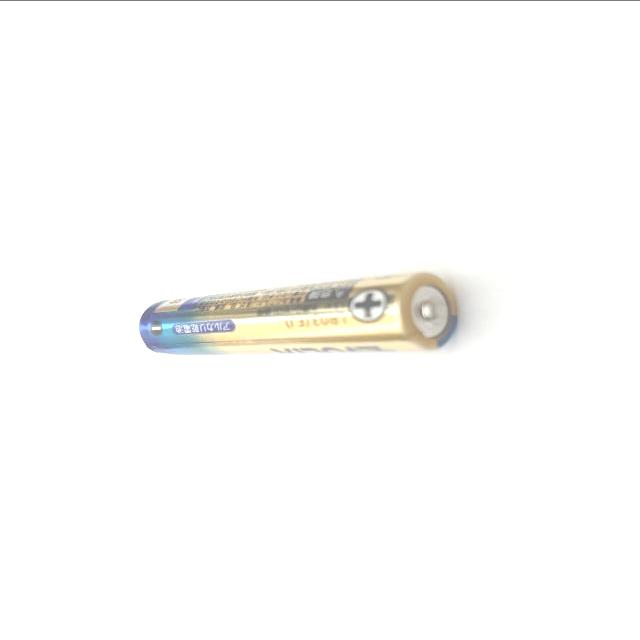AAA: (138, 270, 458, 356)
